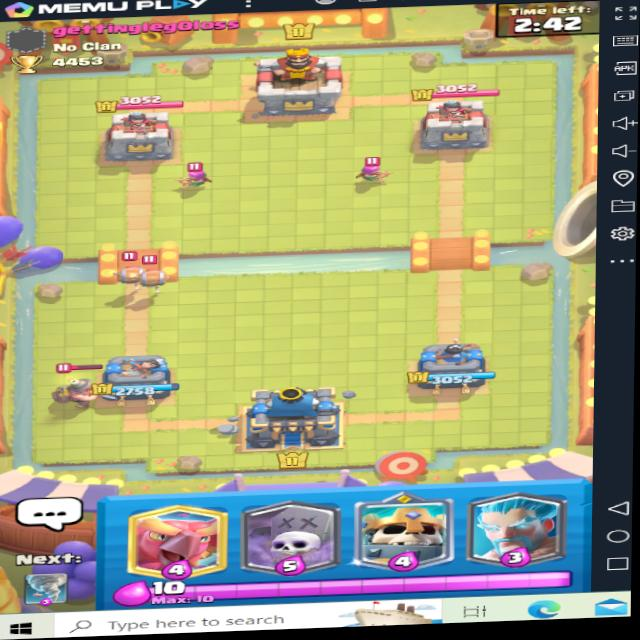archer: (168, 161, 215, 194), (352, 154, 400, 186)
miner: (38, 354, 106, 418)
wall-breaker: (110, 245, 145, 299), (135, 248, 175, 294)
